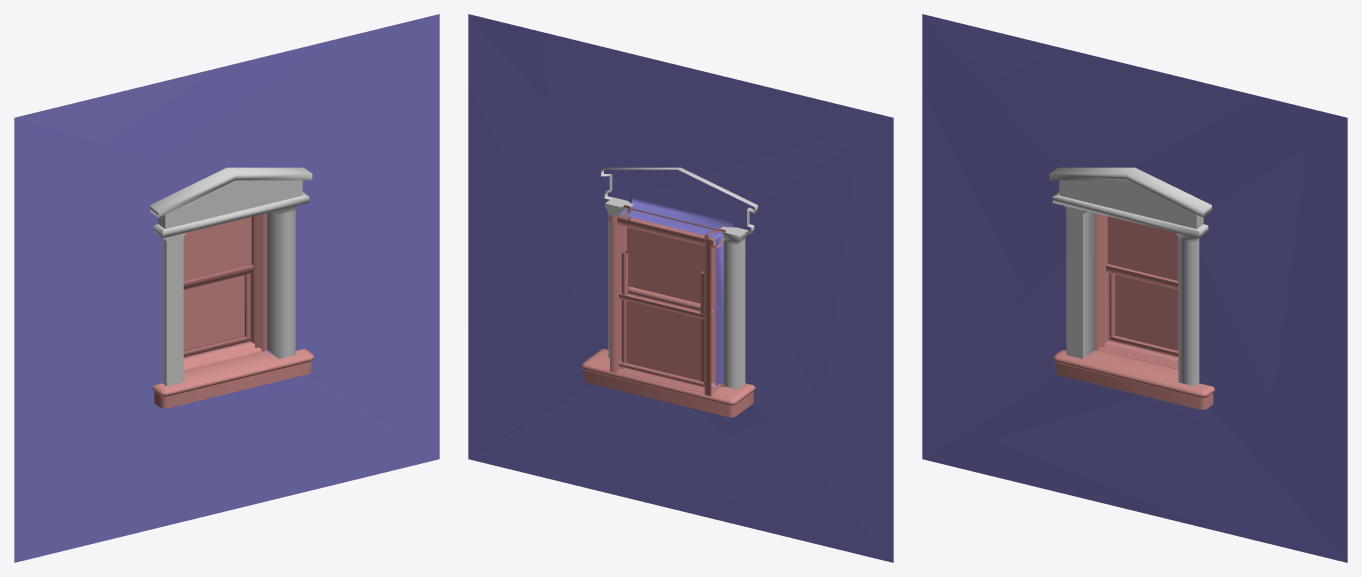
File: window_06.fbx
The picture shows the model from 3 angles, left to right: view 1: azimuth 30°, elevation 25°; view 2: azimuth 150°, elevation 25°; view 3: azimuth 330°, elevation 25°; orthographic projection.
Visible parts, largest first — view 1: Plane.024, Plane.023, Cube.038; view 2: Plane.024, Plane.023, Cube.038; view 3: Plane.024, Plane.023, Cube.038.
Boxes of the visible parts, left/top/right/bottom form: Plane.024: left=14, top=14, right=439, bottom=562; Plane.023: left=152, top=213, right=313, bottom=408; Cube.038: left=150, top=167, right=312, bottom=386; Plane.024: left=468, top=14, right=893, bottom=562; Plane.023: left=581, top=205, right=755, bottom=417; Cube.038: left=601, top=167, right=757, bottom=389; Plane.024: left=922, top=14, right=1347, bottom=562; Plane.023: left=1053, top=213, right=1214, bottom=409; Cube.038: left=1049, top=167, right=1211, bottom=386.
Bounding box in the file's own units: 4 × 4 × 0.5096.
